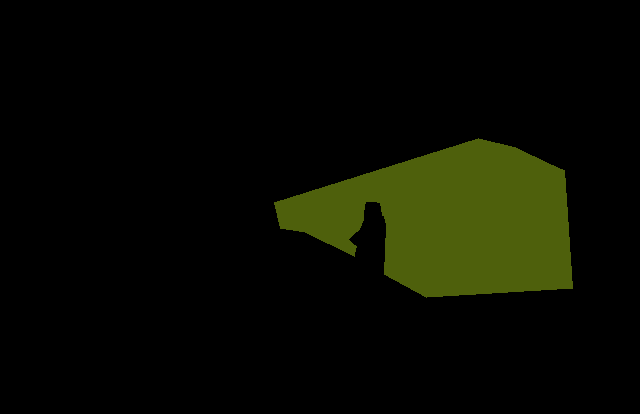Train: (274, 138, 572, 298)
